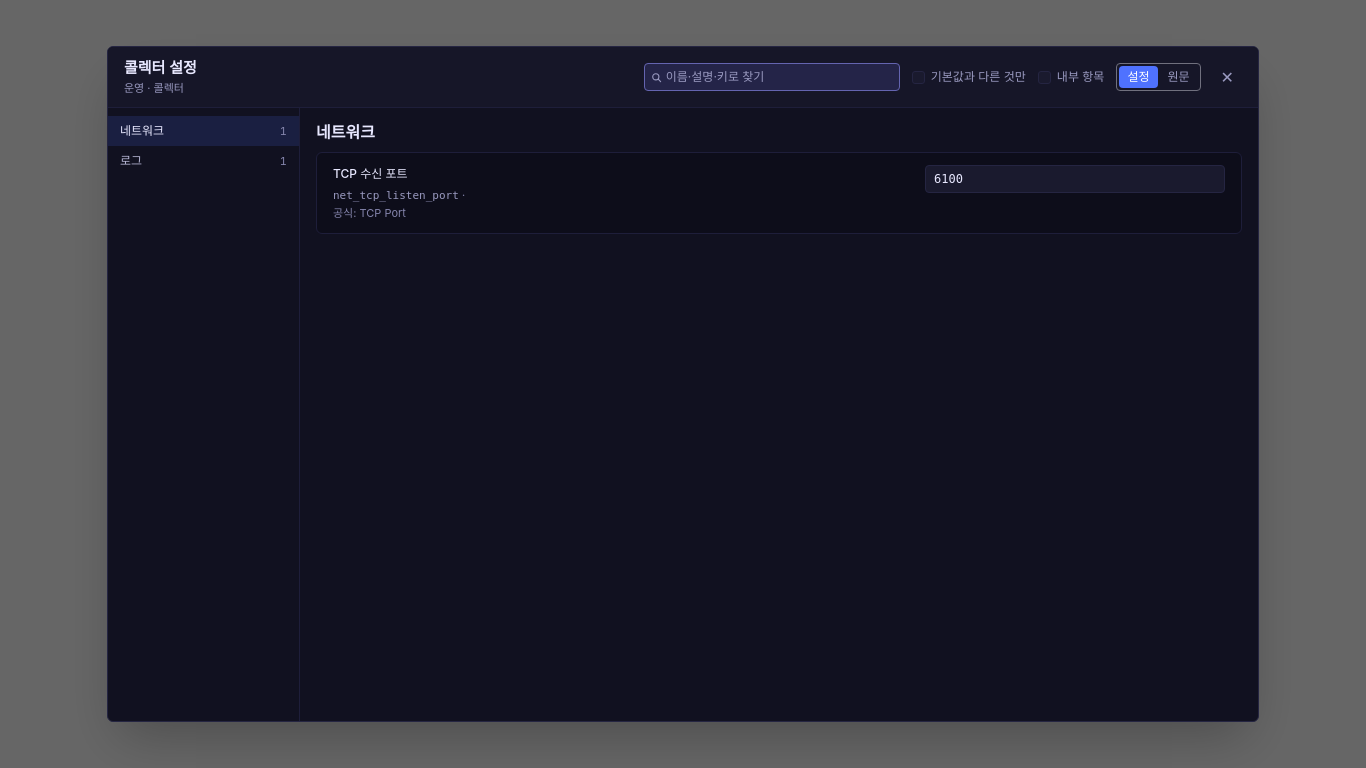
ConfigSettingsDialog › 원문 보기로 설정 파일 그대로를 본다
Expected: the text "TCP 수신 포트" is shown, [333,165,408,183]
Click the button "원문".
click(1179, 77)  # box [1160,66,1198,88]
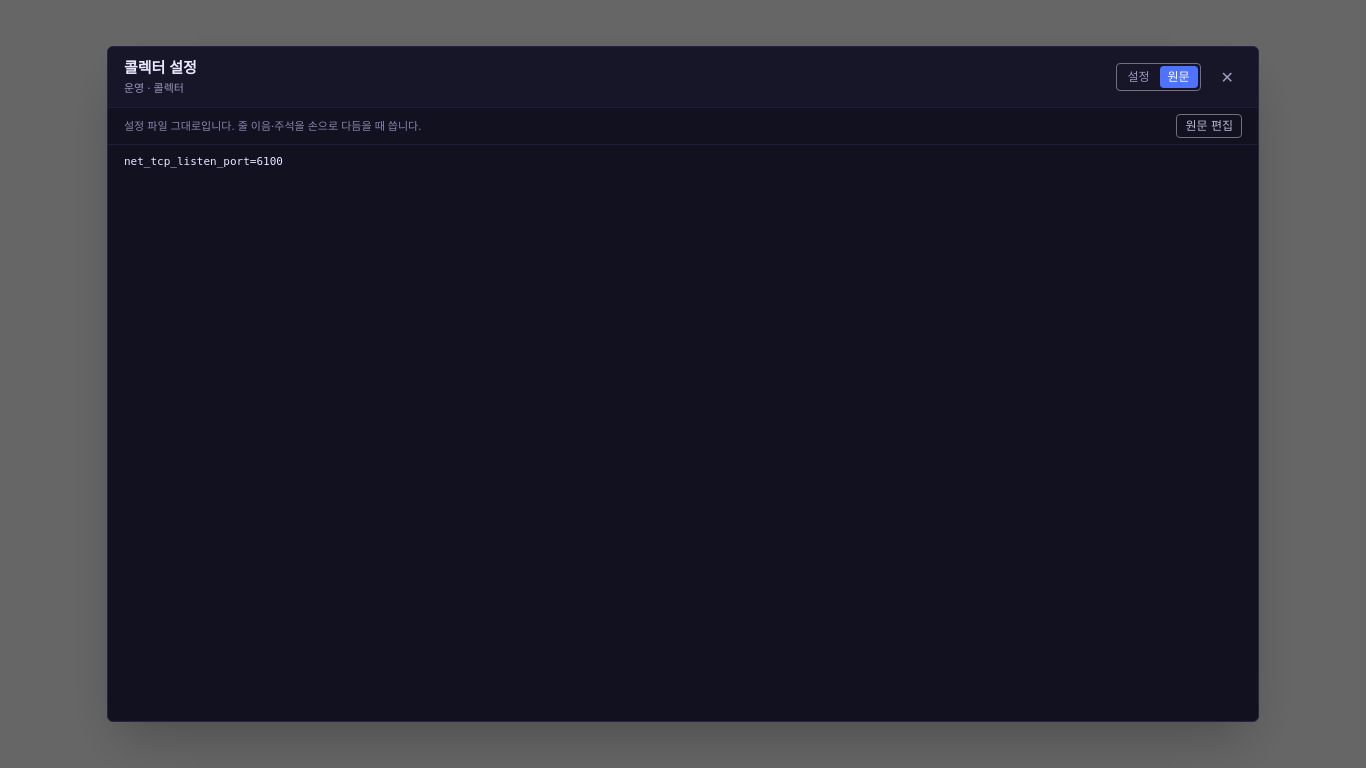
Now the text "net_tcp_listen_port=6100" is shown, box [124,155,283,168]
Now the button "원문 편집" is shown, box [1176,114,1242,138]
